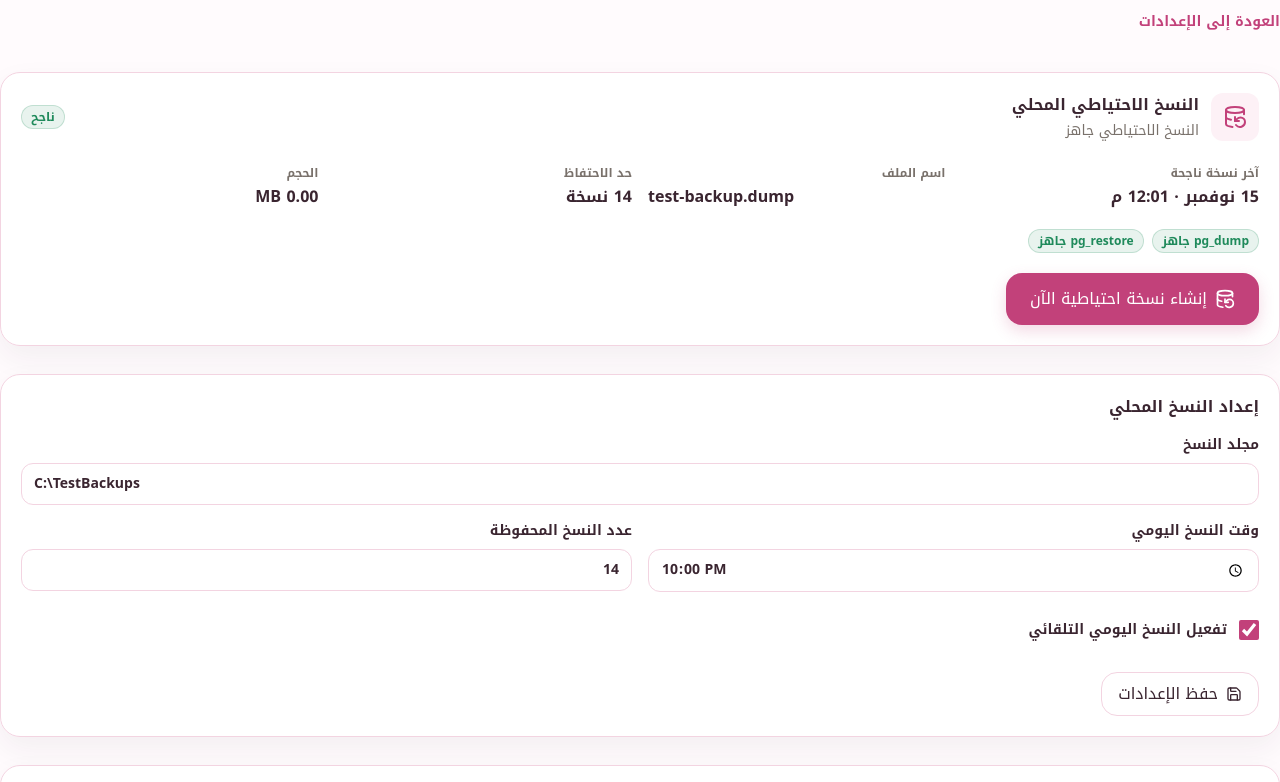
Test: إعدادات النسخ الاحتياطي المبسطة › يحافظ على حفظ الجدولة والاحتفاظ والنسخ اليدوي بعد التأكيد
Expected: the field labelled "مجلد النسخ" is shown, [21,463,1259,505]
Replace the text in the number field labelled "عدد النسخ المحفوظة" with "30": (326, 570) [21,549,632,591]
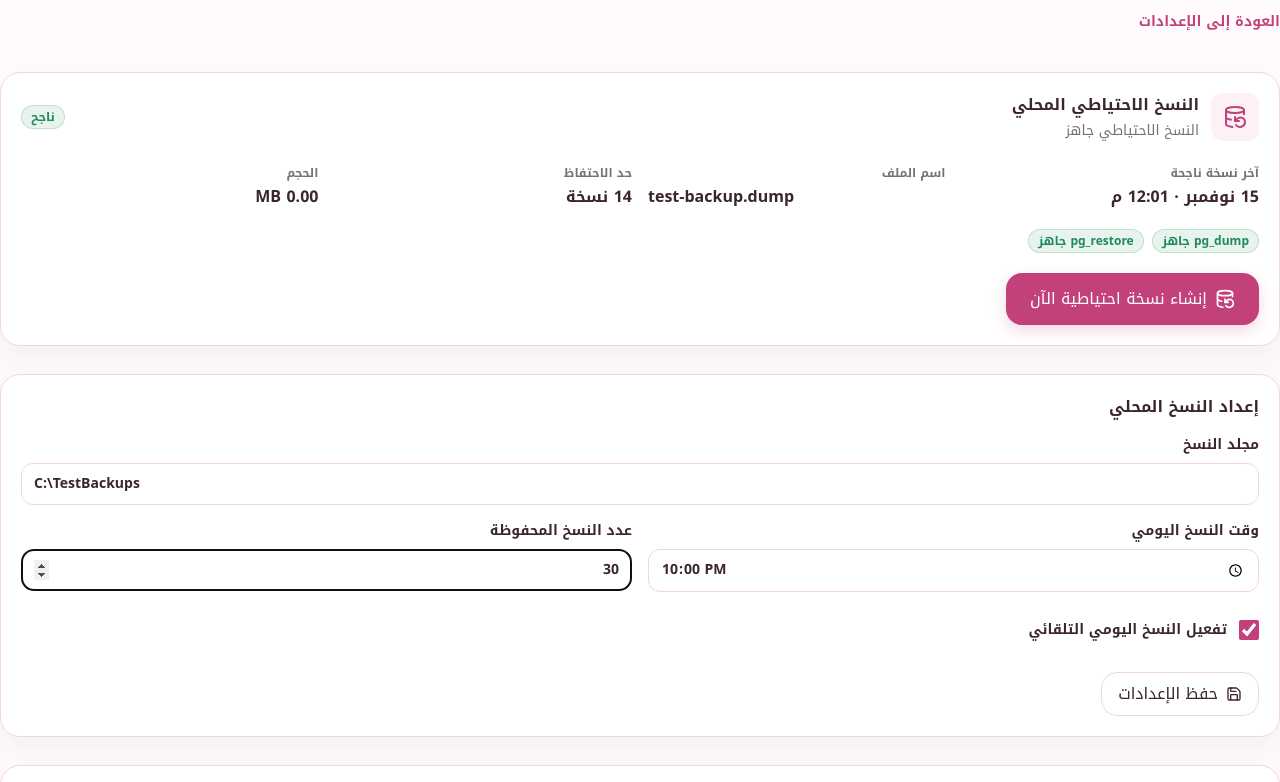
Click the checkbox labelled "تفعيل النسخ اليومي التلقائي": (1249, 630) [1239,620,1259,640]
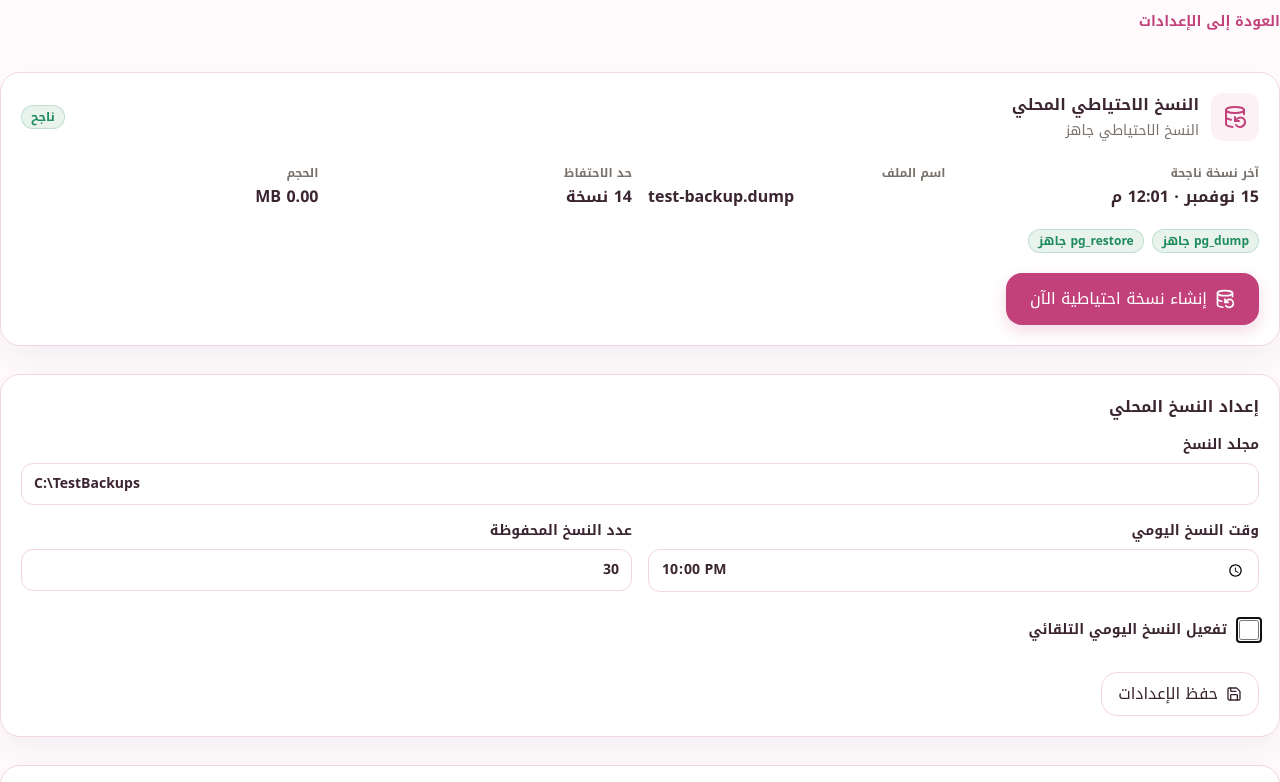
Click the button "حفظ الإعدادات": (1180, 694) [1101,672,1259,716]
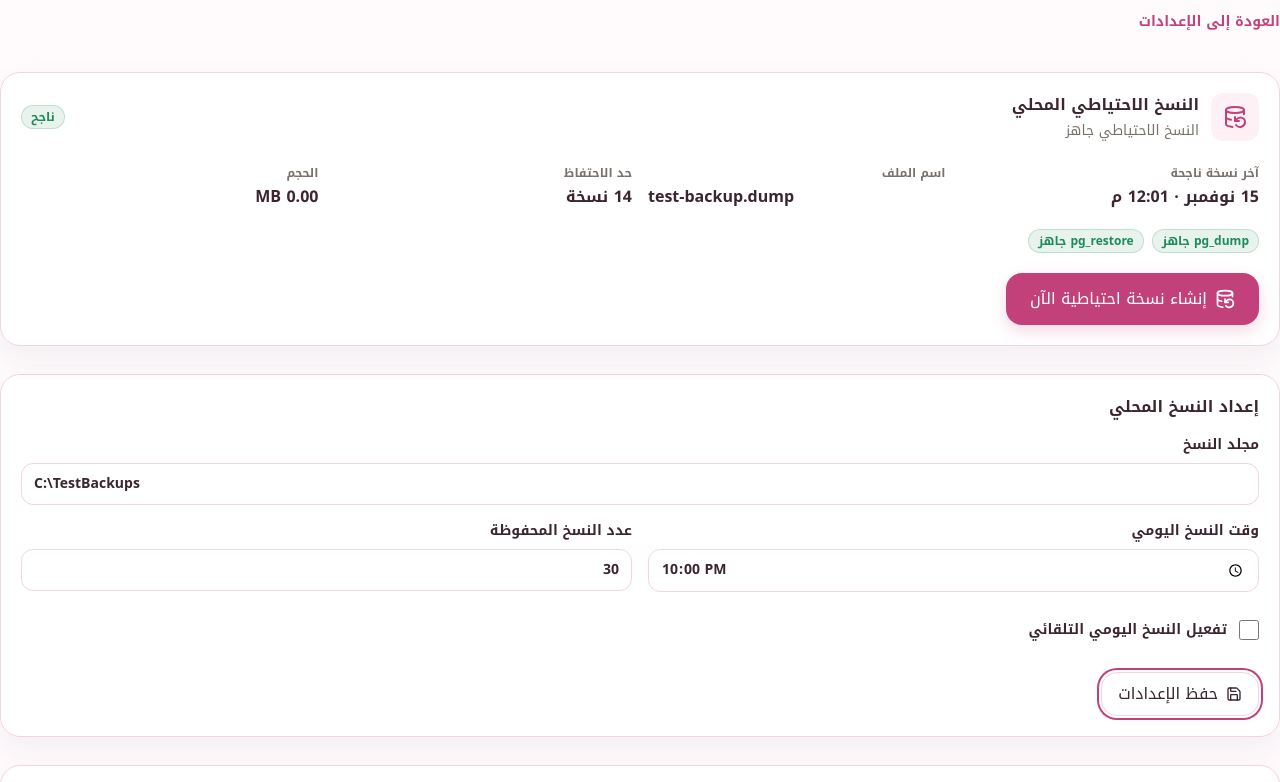
Click the button "إنشاء نسخة احتياطية الآن": (1133, 299) [1006,273,1259,325]
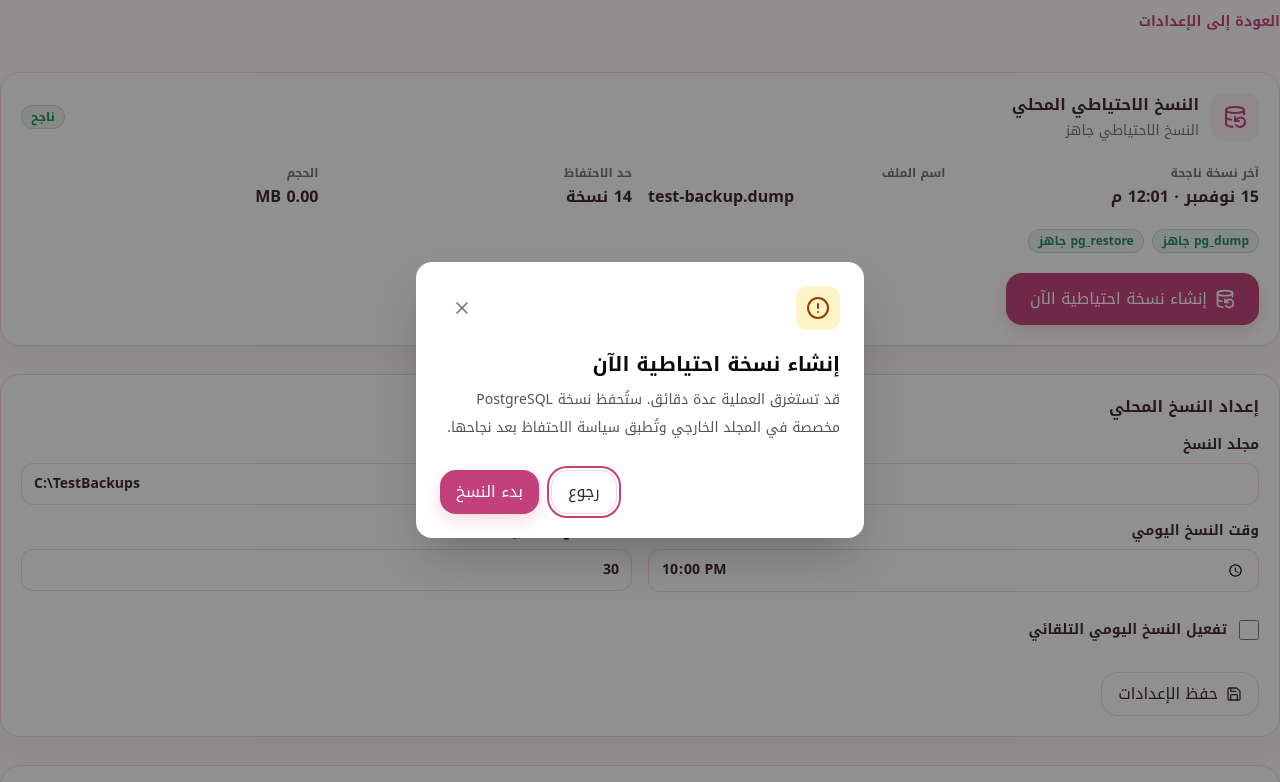
Click the button "بدء النسخ": (489, 492) [440,470,539,514]
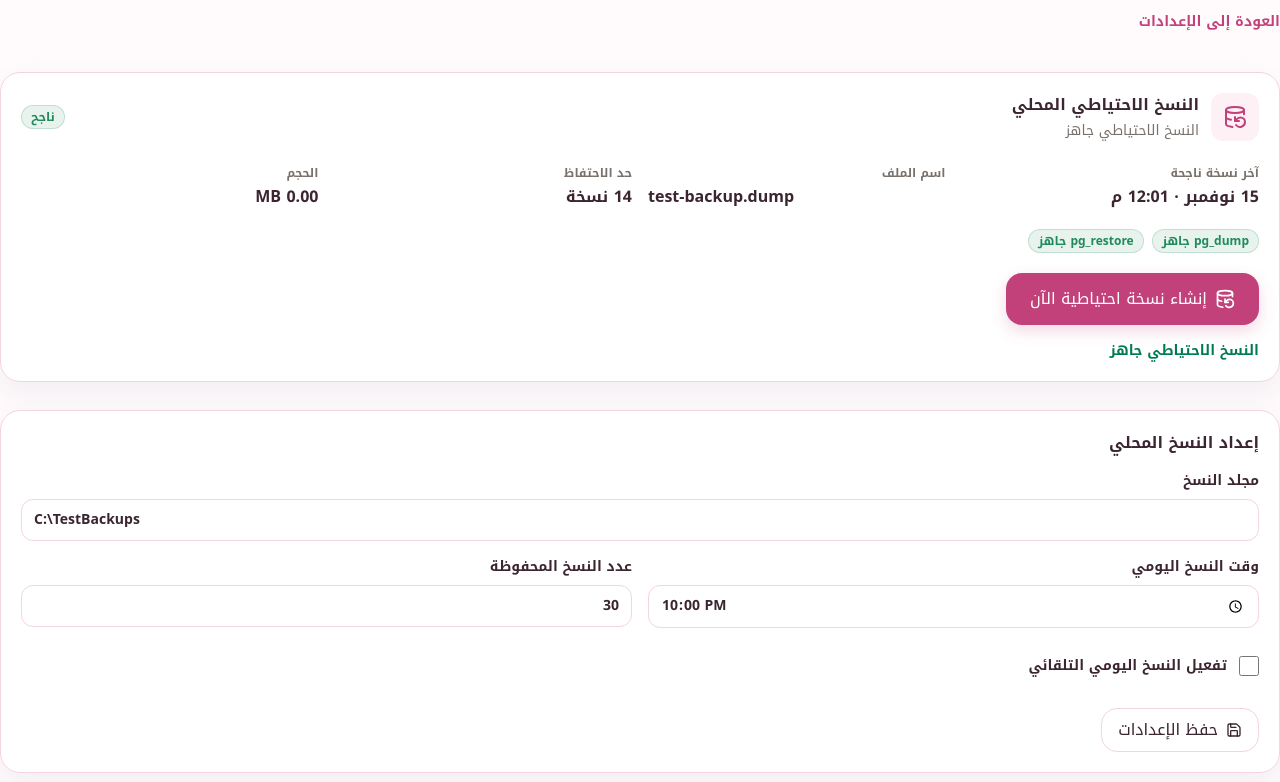
Result: the dialog is gone
